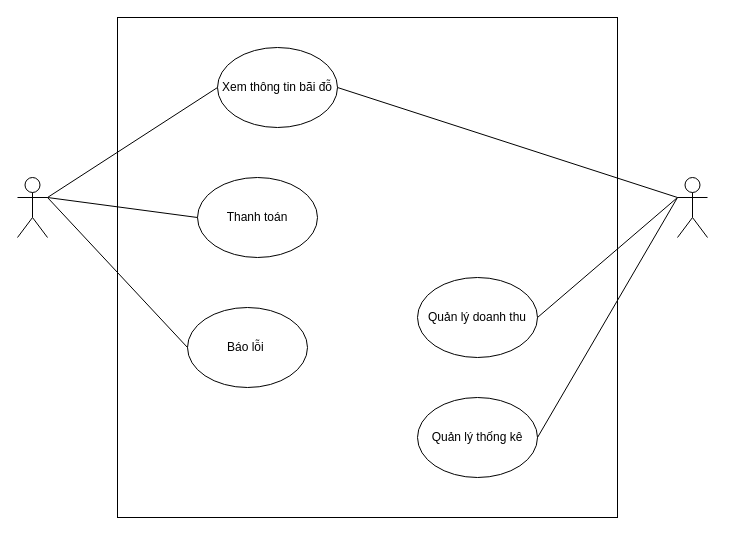
Image size: 733x535. Some labels were removed from this diagram. Each missing label, with the box of its shape:
Manager: (676, 176, 708, 238)
User: (16, 176, 48, 238)
